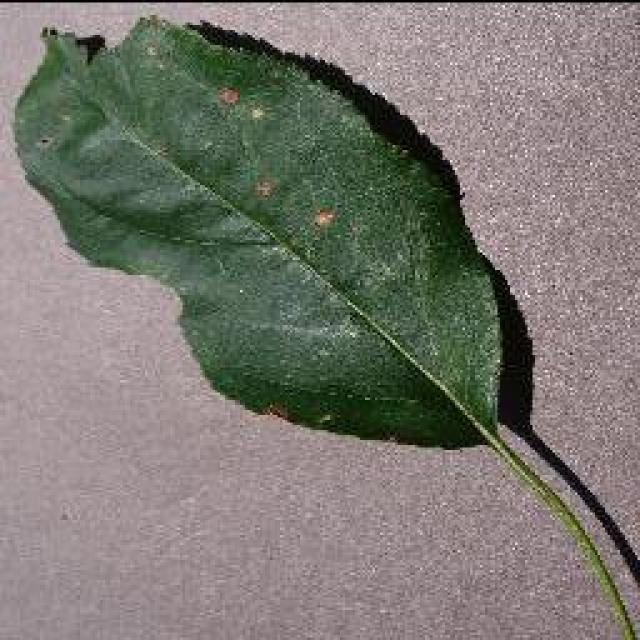Black_rot: (10, 12, 638, 638)
